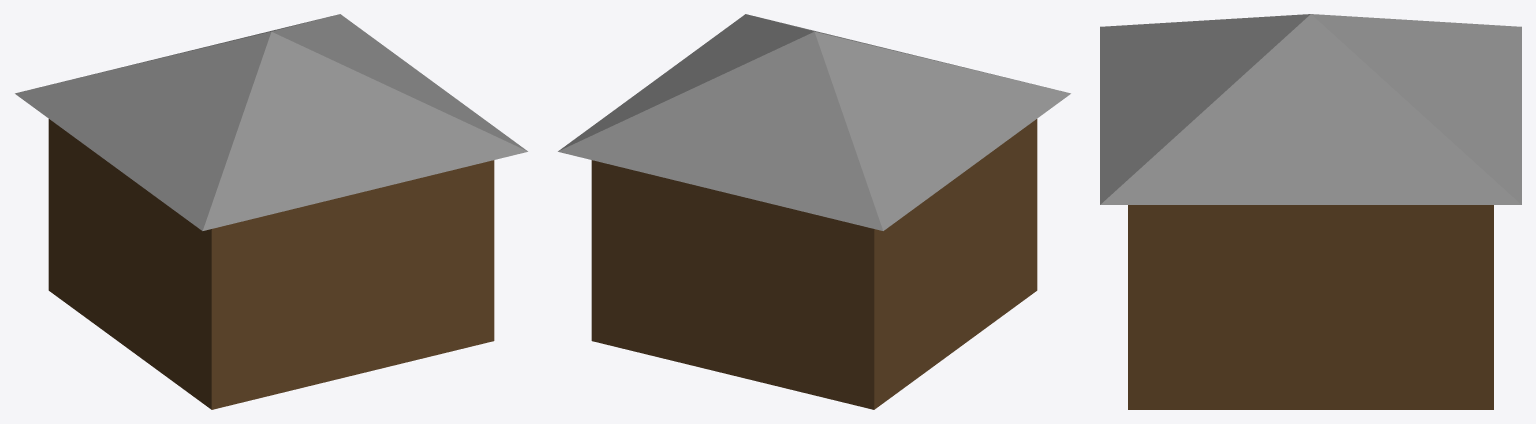
File: balloon_stand.obj
The picture shows the model from 3 angles, left to right: view 1: azimuth 30°, elevation 25°; view 2: azimuth 150°, elevation 25°; view 3: azimuth 270°, elevation 25°; orthographic projection. The views are drawn at different scales.
Size of the model in its own units: 3 by 2.5 by 3.
